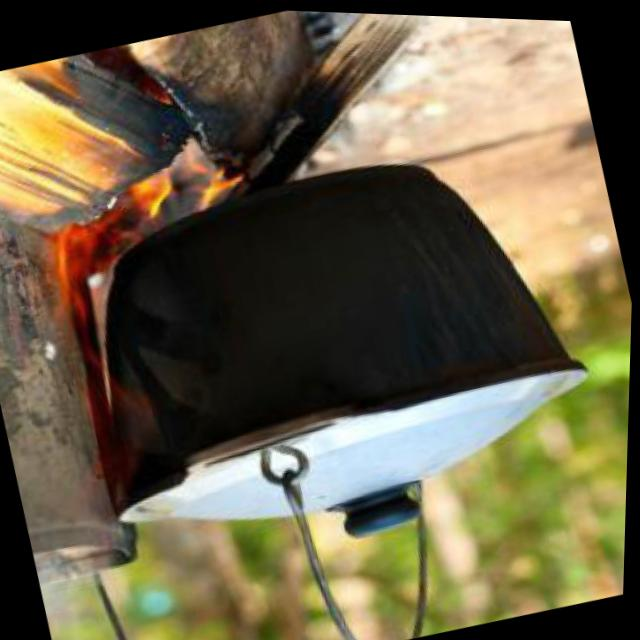Fire: (3, 139, 261, 330)
